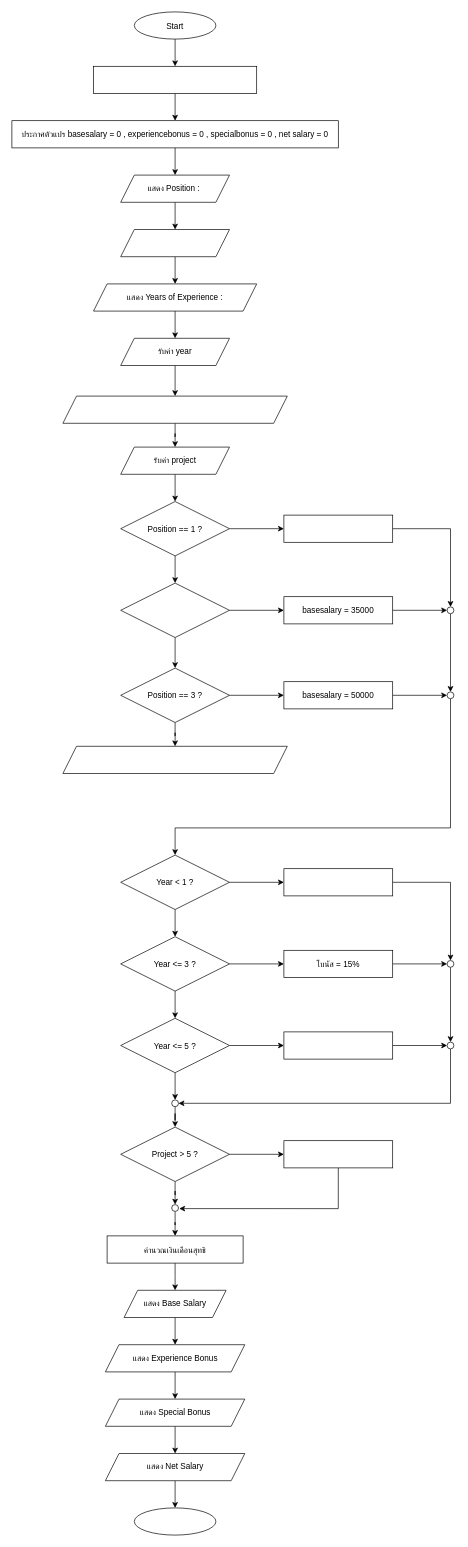
Image size: 468x1547. Some labels were removed from this diagram. The centre of each missing label's shape, as x and y in pixels:
basesalary = 20000: (x=338, y=528)
Position == 2 ?: (x=175, y=610)
Stop: (x=175, y=1521)
ประกาศตัวแปร position . year , project: (x=175, y=80)
รับค่า position: (x=175, y=243)
แสดง Invalid Position!: (x=174, y=760)
แสดง Number of Projects Completed this Year :: (x=174, y=409)
โบนัส = 10%: (x=338, y=882)
โบนัส = 20%: (x=338, y=1045)
โบนัสพิเศษ = 5%: (x=338, y=1154)
